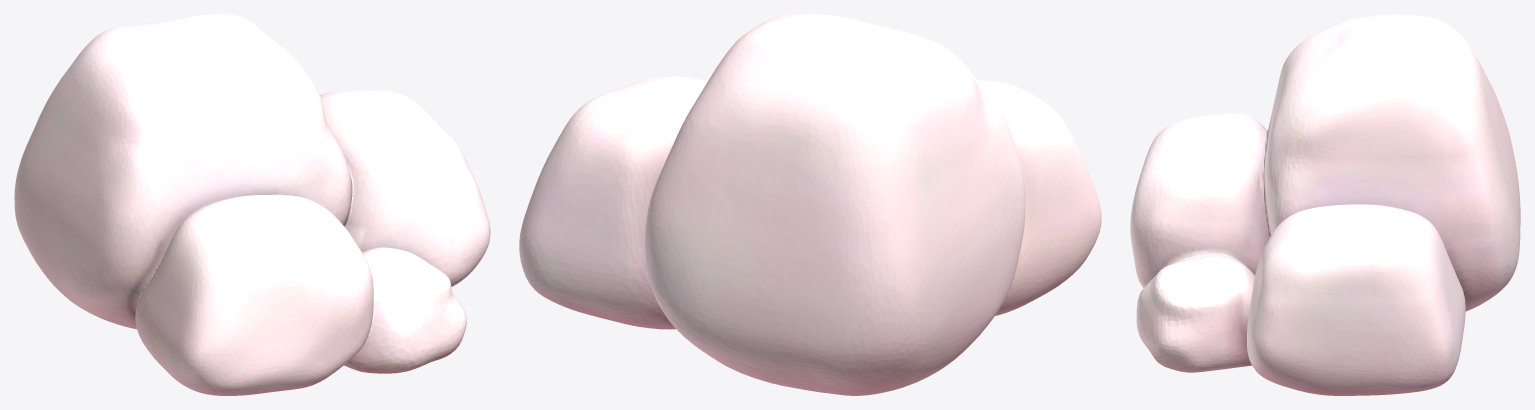
Rendered from rocks.glb.
The picture shows the model from 3 angles, left to right: view 1: azimuth 30°, elevation 25°; view 2: azimuth 150°, elevation 25°; view 3: azimuth 270°, elevation 25°; orthographic projection. The views are drawn at different scales.
Visible parts, largest first — view 1: tripo_mesh_cafcc838-6b7c-45ab-82f7-036f70288962; view 2: tripo_mesh_cafcc838-6b7c-45ab-82f7-036f70288962; view 3: tripo_mesh_cafcc838-6b7c-45ab-82f7-036f70288962.
Part boxes in pixels (x1,y1,x2,y2): tripo_mesh_cafcc838-6b7c-45ab-82f7-036f70288962: [14, 14, 490, 395]; tripo_mesh_cafcc838-6b7c-45ab-82f7-036f70288962: [519, 14, 1101, 395]; tripo_mesh_cafcc838-6b7c-45ab-82f7-036f70288962: [1130, 14, 1520, 395].
Bounding box in the file's own units: 1.4 × 1 × 1.32.
1 material, 1 textured.
